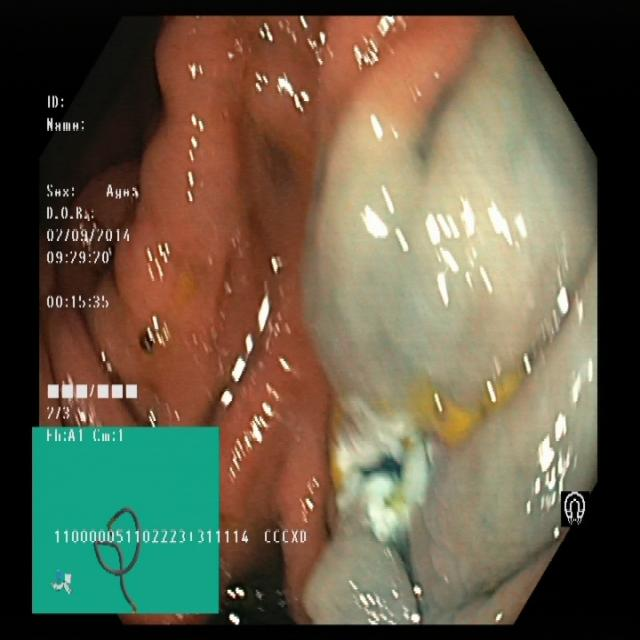dyed-resection-margins: (316, 356, 532, 563)
